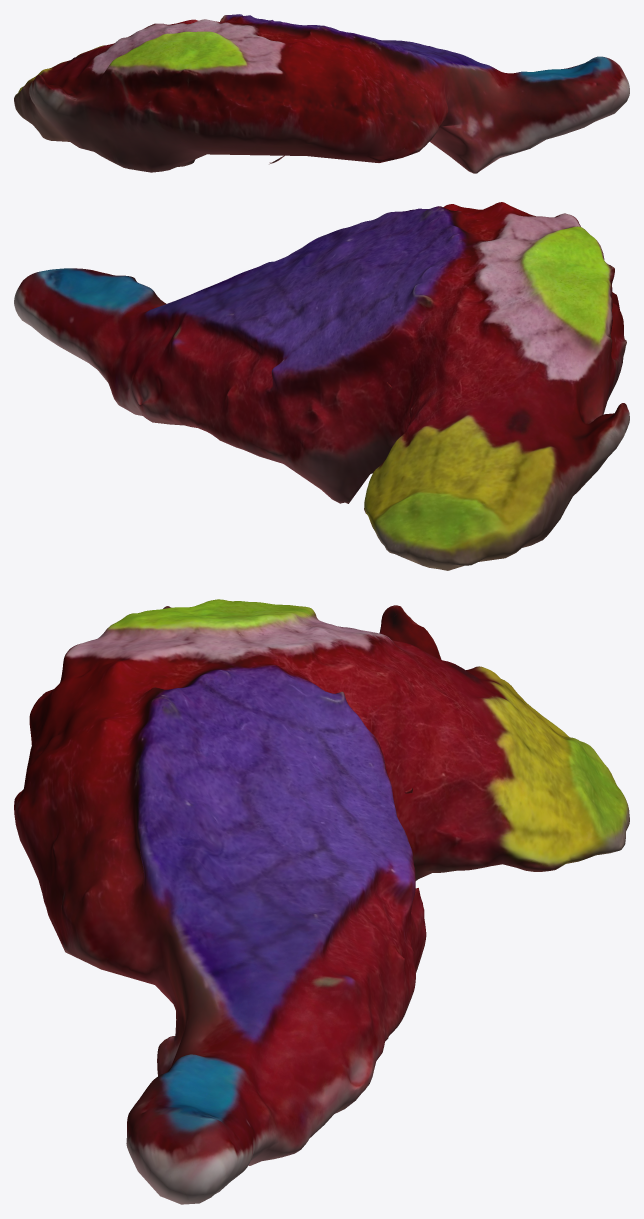
The picture shows the model from 3 angles, top to bottom: view 1: azimuth 30°, elevation 25°; view 2: azimuth 150°, elevation 25°; view 3: azimuth 270°, elevation 25°; orthographic projection. The views are drawn at different scales.
Bounding box in the file's own units: 1.01 × 0.3483 × 0.611.
Materials: 1 (1 with a texture image).
